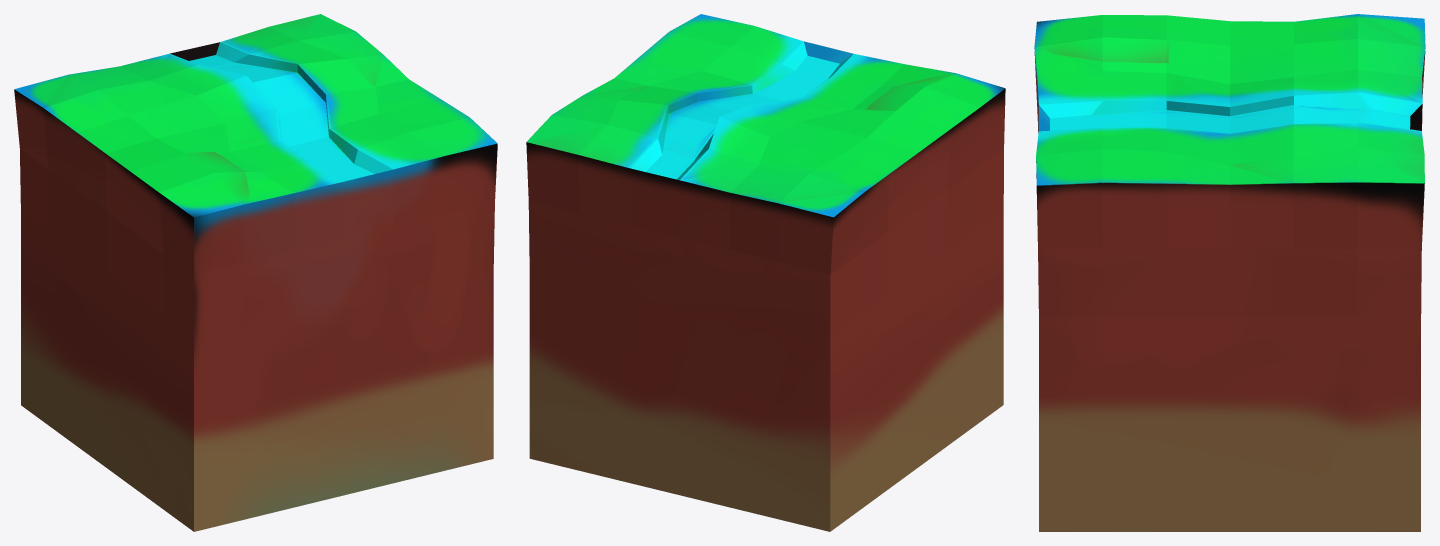
File: BaseCubeDioramaNormalsGoodMaybe.fbx
3 views of the same model, side by side, from view 1: azimuth 30°, elevation 25°; view 2: azimuth 150°, elevation 25°; view 3: azimuth 270°, elevation 25° (orthographic). The views are drawn at different scales.
Parts seen in each view (by area): view 1: Cube; view 2: Cube; view 3: Cube.
Boxes of the visible parts, x1,y1,x2,y2 form: Cube: [14, 14, 497, 531]; Cube: [526, 14, 1005, 531]; Cube: [1034, 14, 1425, 531].
Bounding box in the file's own units: 423 × 428 × 415.
1 material, 1 textured.
